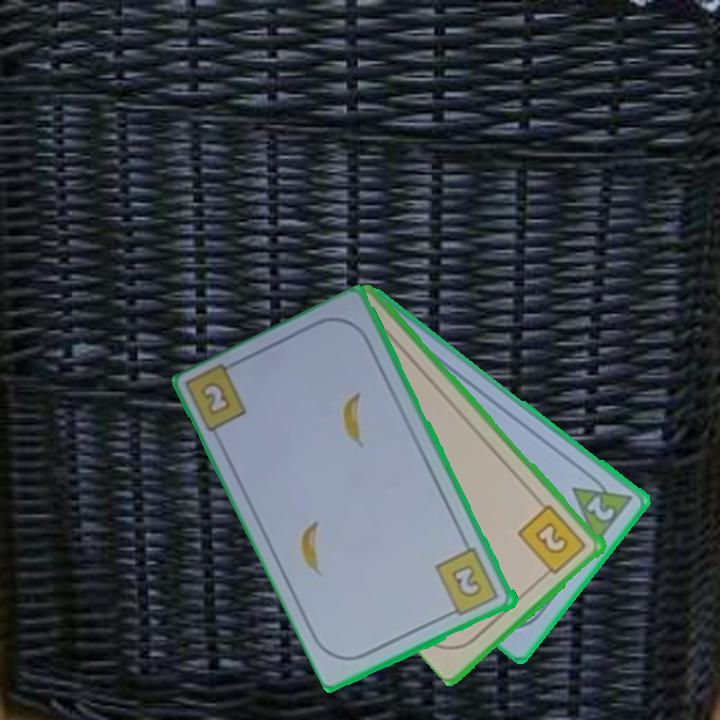2b: (515, 501, 590, 581), (432, 545, 502, 620), (200, 381, 231, 415)
2p: (583, 491, 618, 524)
